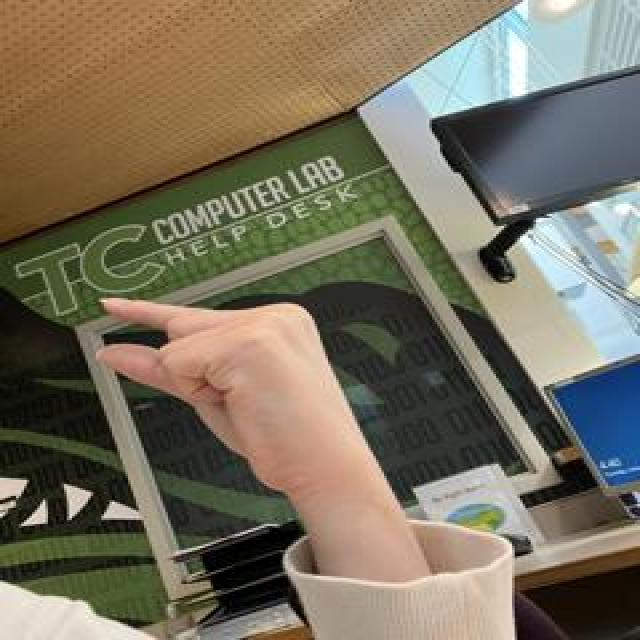G: (88, 290, 357, 490)
